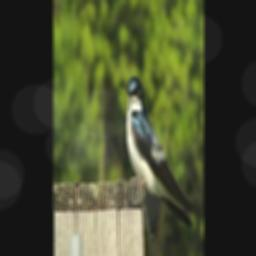Swallow: (126, 74, 197, 229)
